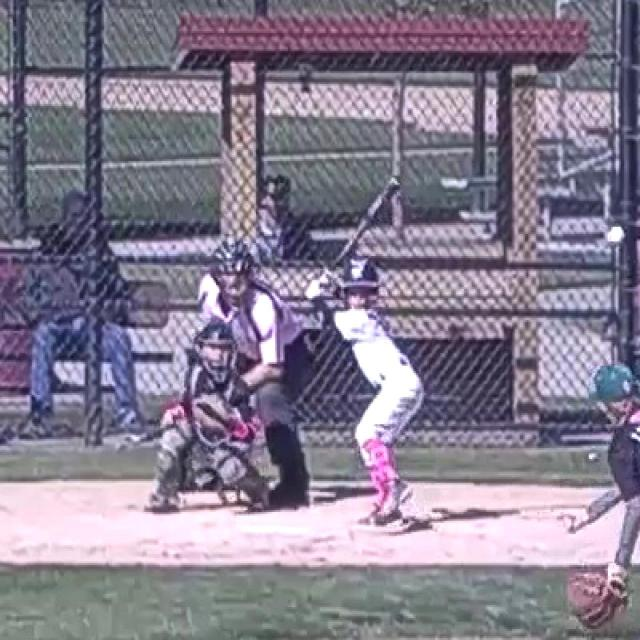baseball: (607, 228, 624, 242)
